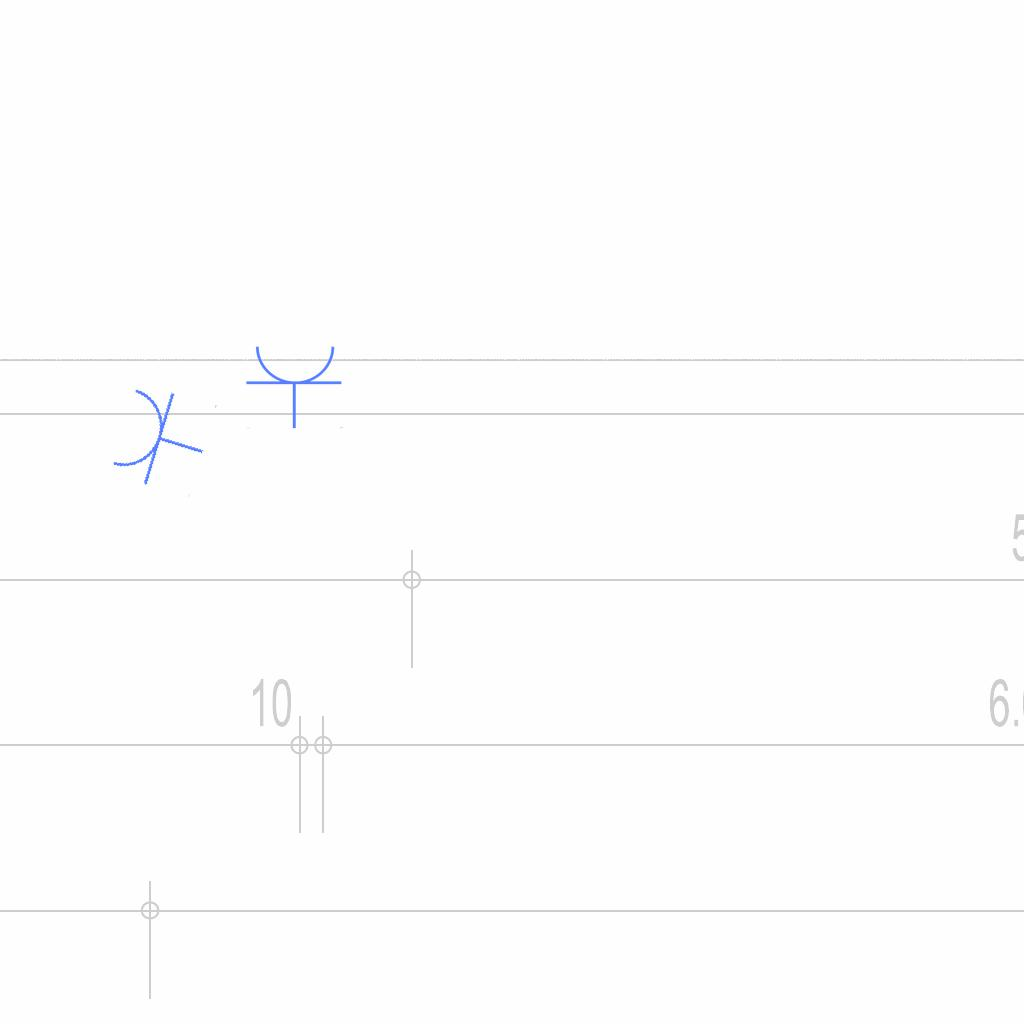Schukosteckdose_einfach: (105, 377, 219, 500), (245, 342, 345, 429)
